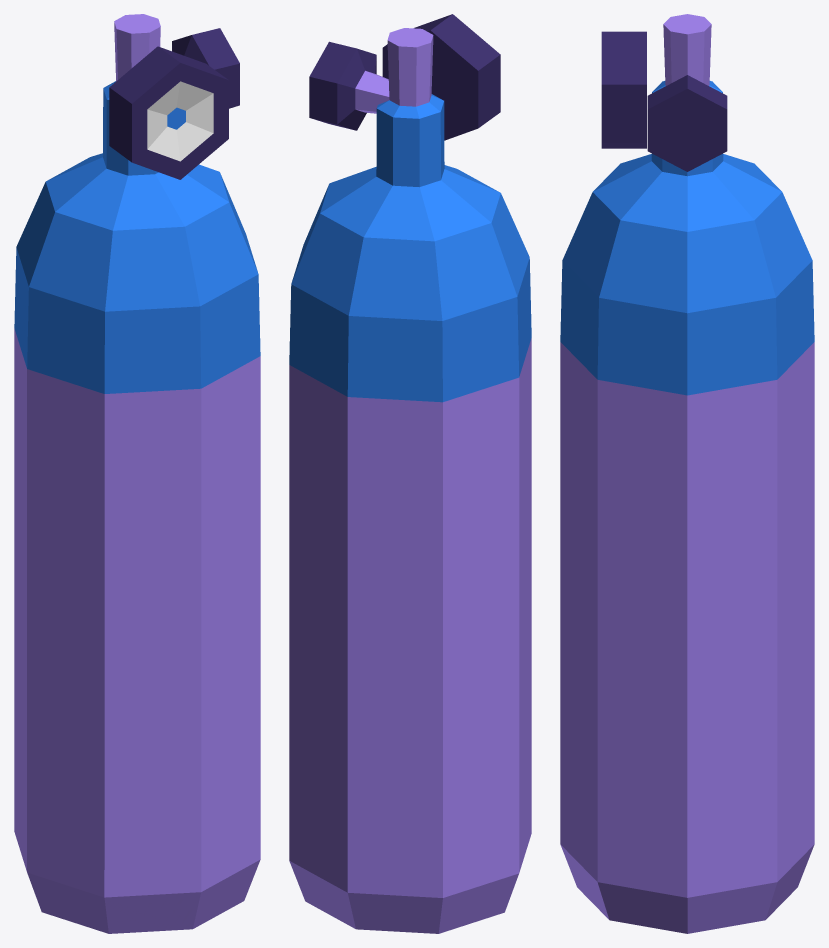
The model's file is 004_Oxygen.fbx.
3 renders of one model, left to right at view 1: azimuth 30°, elevation 25°; view 2: azimuth 150°, elevation 25°; view 3: azimuth 270°, elevation 25°, orthographic.
Parts seen in each view (by area): view 1: OXYGENCYLNDER; view 2: OXYGENCYLNDER; view 3: OXYGENCYLNDER.
Part boxes in pixels (x1=…): OXYGENCYLNDER: x1=14, y1=14, x2=260, y2=933; OXYGENCYLNDER: x1=289, y1=14, x2=531, y2=933; OXYGENCYLNDER: x1=560, y1=14, x2=814, y2=933.
Bounding box in the file's own units: 26.95 × 101 × 26.95.
